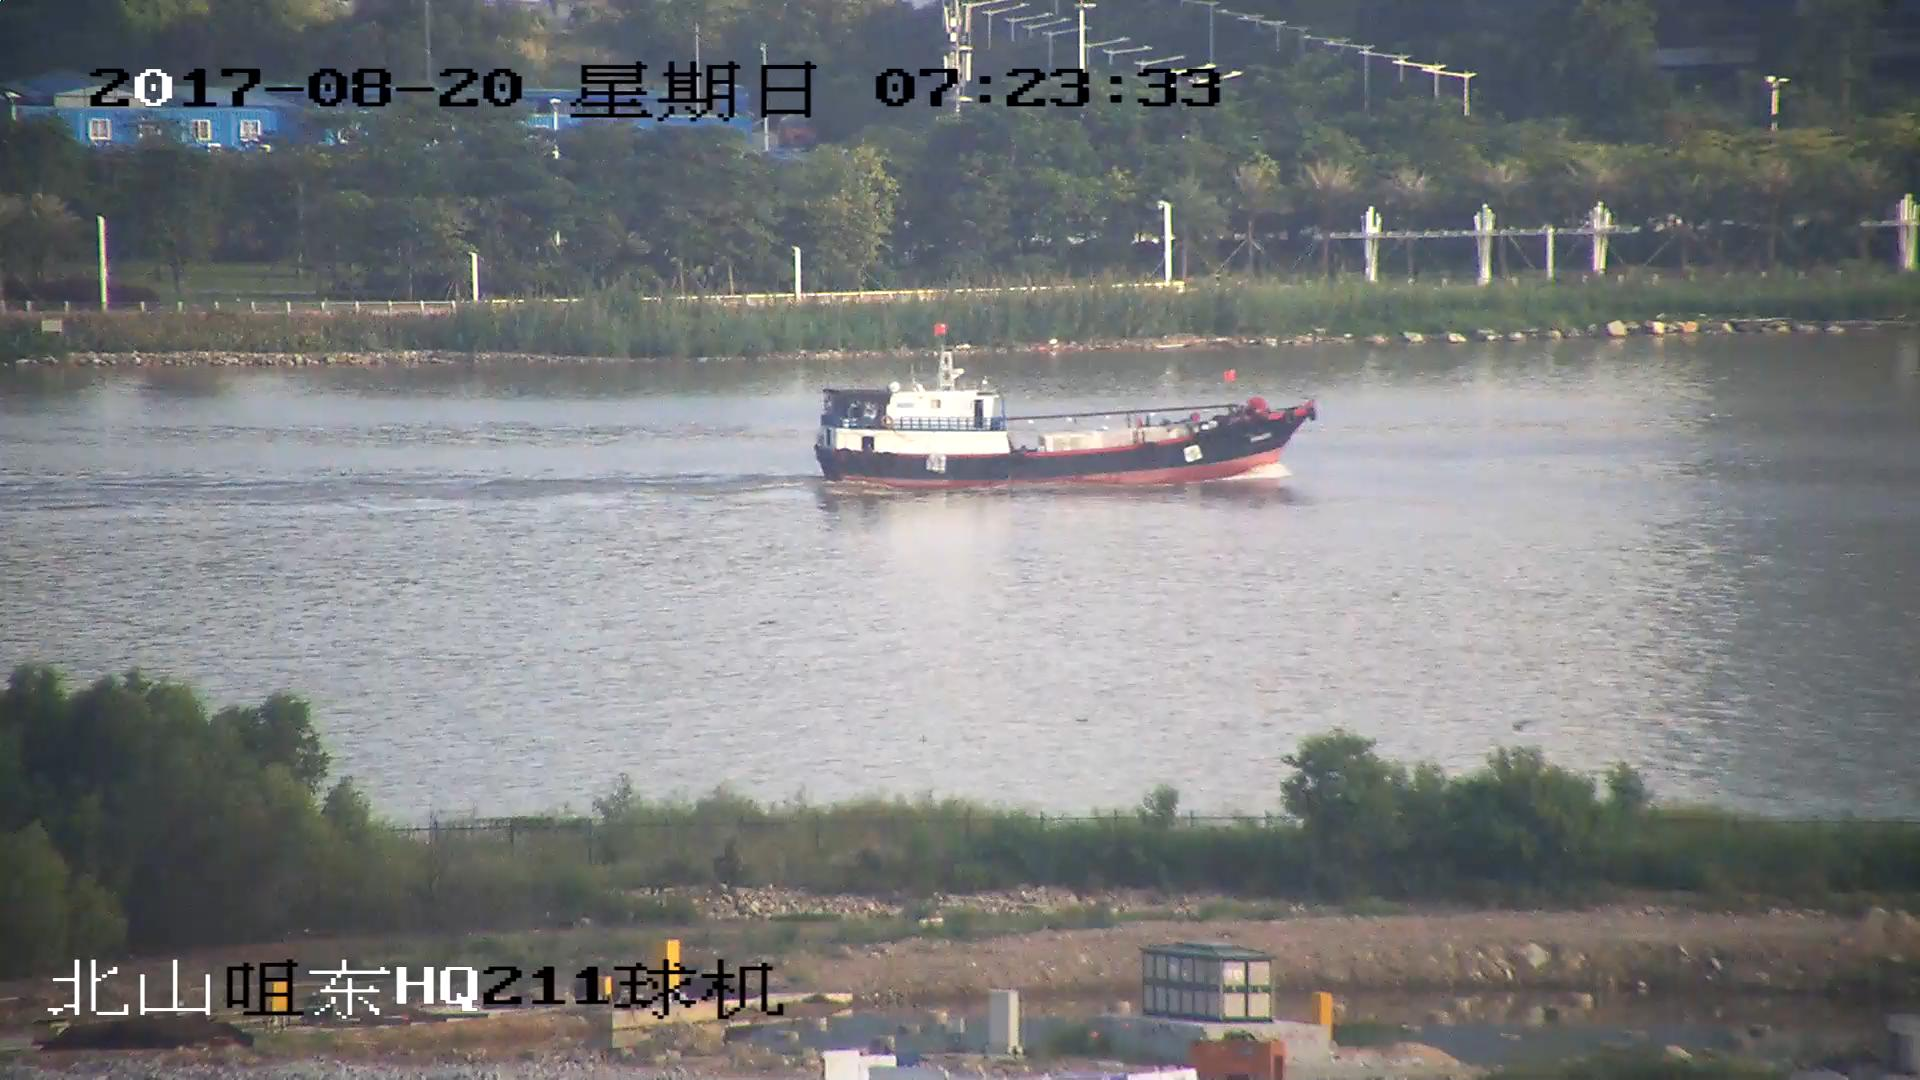fishing boat: (814, 348, 1319, 489)
